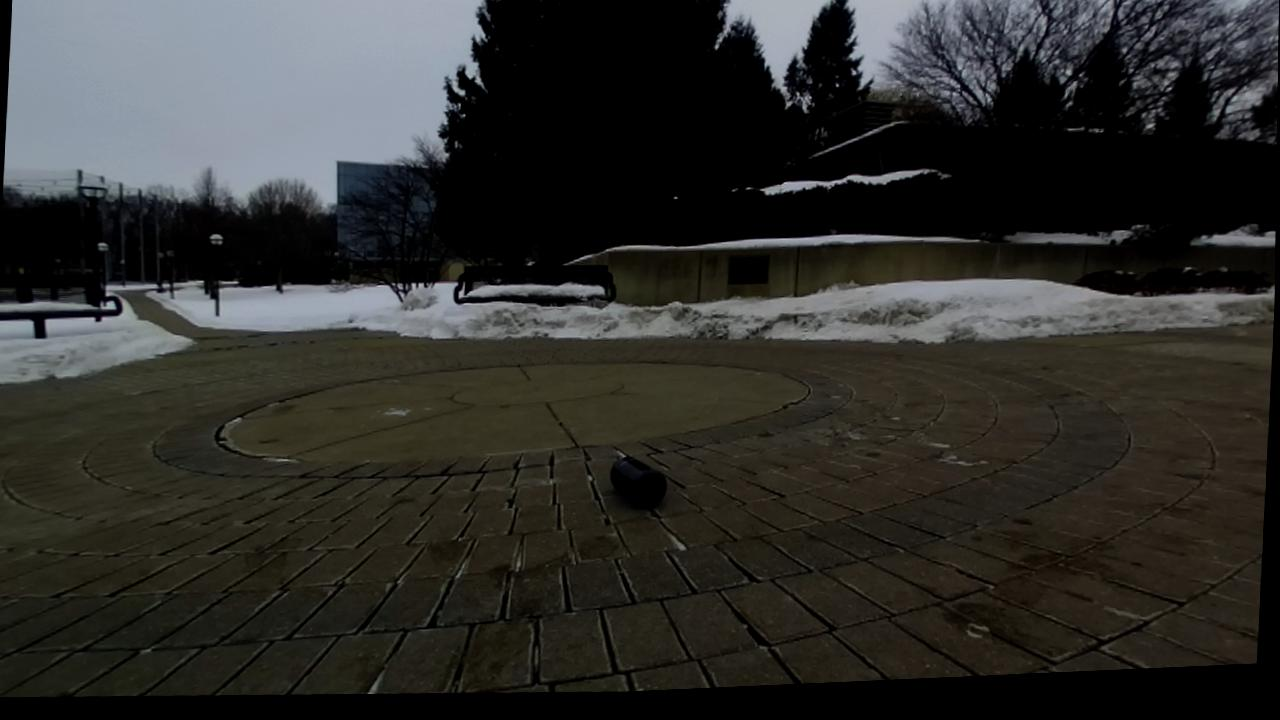bottle: (611, 457, 666, 507)
